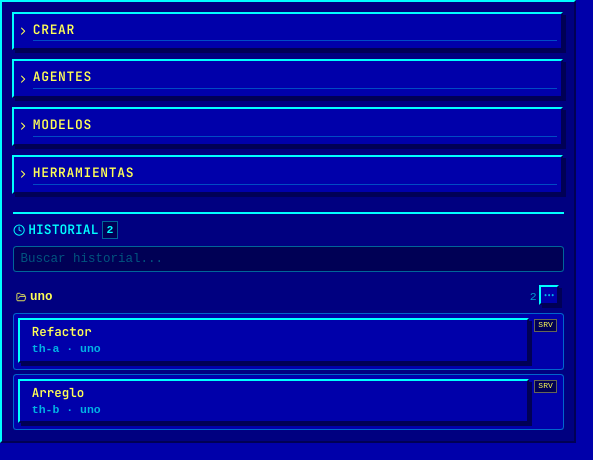
Sidebar (panel lateral agrupado) › el filtro de historial también recorta las sesiones en servidor
Step 1. Type "arreglo" into the field with placeholder "Buscar historial..." → (288,259), box [12,246,564,272]
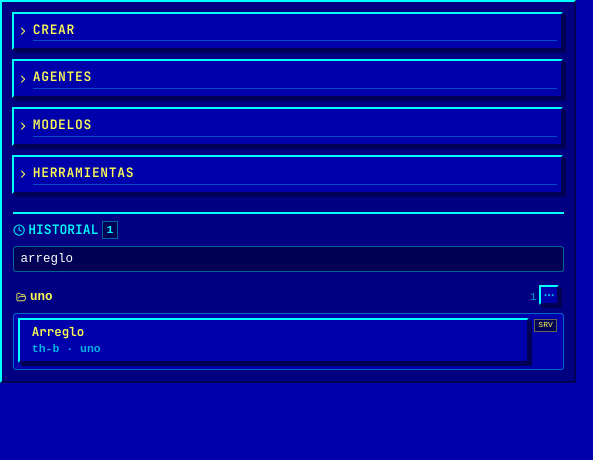
Expected: the text "Arreglo" is shown, [32,324,84,341]
Expected: the button "Refactor" is gone
